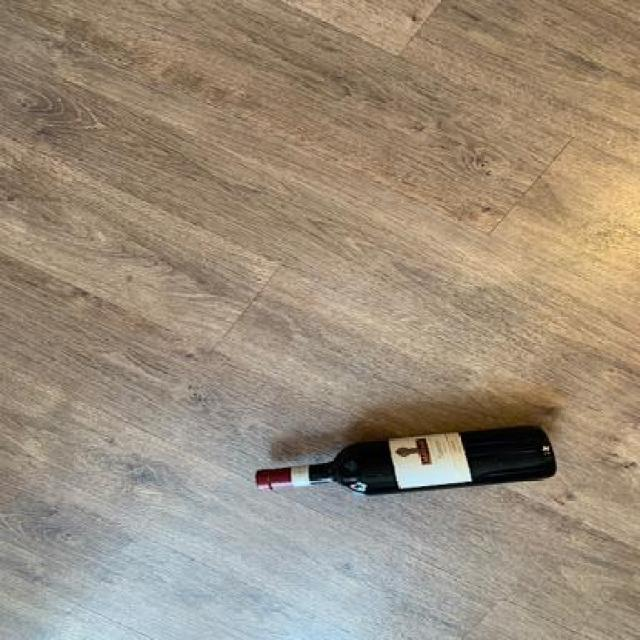trash: (251, 422, 572, 498)
